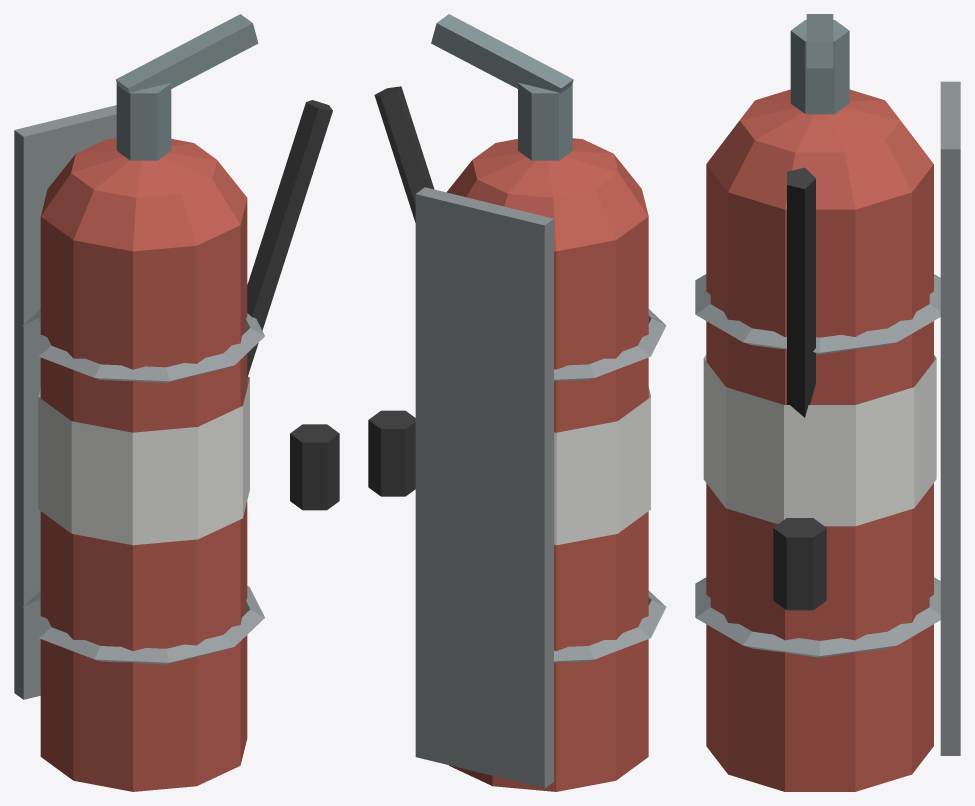
Rendered from kit_extinguisher.fbx.
The picture shows the model from 3 angles, left to right: view 1: azimuth 30°, elevation 25°; view 2: azimuth 150°, elevation 25°; view 3: azimuth 270°, elevation 25°; orthographic projection. The views are drawn at different scales.
Parts seen in each view (by area): view 1: kit_extinguisher; view 2: kit_extinguisher; view 3: kit_extinguisher.
Part boxes in pixels (<box>): kit_extinguisher: <box>14,14,339,791</box>; kit_extinguisher: <box>368,14,666,791</box>; kit_extinguisher: <box>695,14,960,791</box>.
Size of the model in its own units: 0.2653 by 0.6252 by 0.1982.
